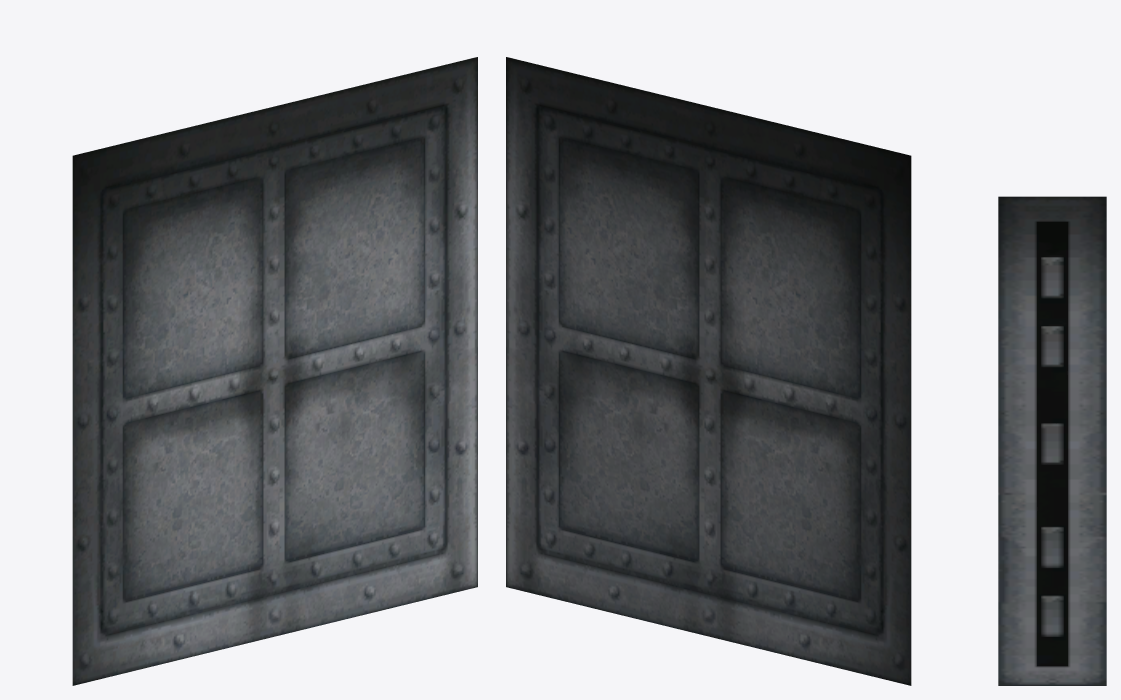
File: MAINGATEDOORLEFT.glb
3 renders of one model, left to right at view 1: azimuth 30°, elevation 25°; view 2: azimuth 150°, elevation 25°; view 3: azimuth 270°, elevation 25°, orthographic. The views are drawn at different scales.
Visible parts, largest first — view 1: MAINGATEDOORLEFT; view 2: MAINGATEDOORLEFT; view 3: MAINGATEDOORLEFT.
Boxes of the visible parts, x1,y1,x2,y2 form: MAINGATEDOORLEFT: (72, 57, 477, 685); MAINGATEDOORLEFT: (506, 57, 911, 685); MAINGATEDOORLEFT: (998, 196, 1106, 685).
Bounding box in the file's own units: 4 × 5 × 1.
Materials: 2 (2 with a texture image).
